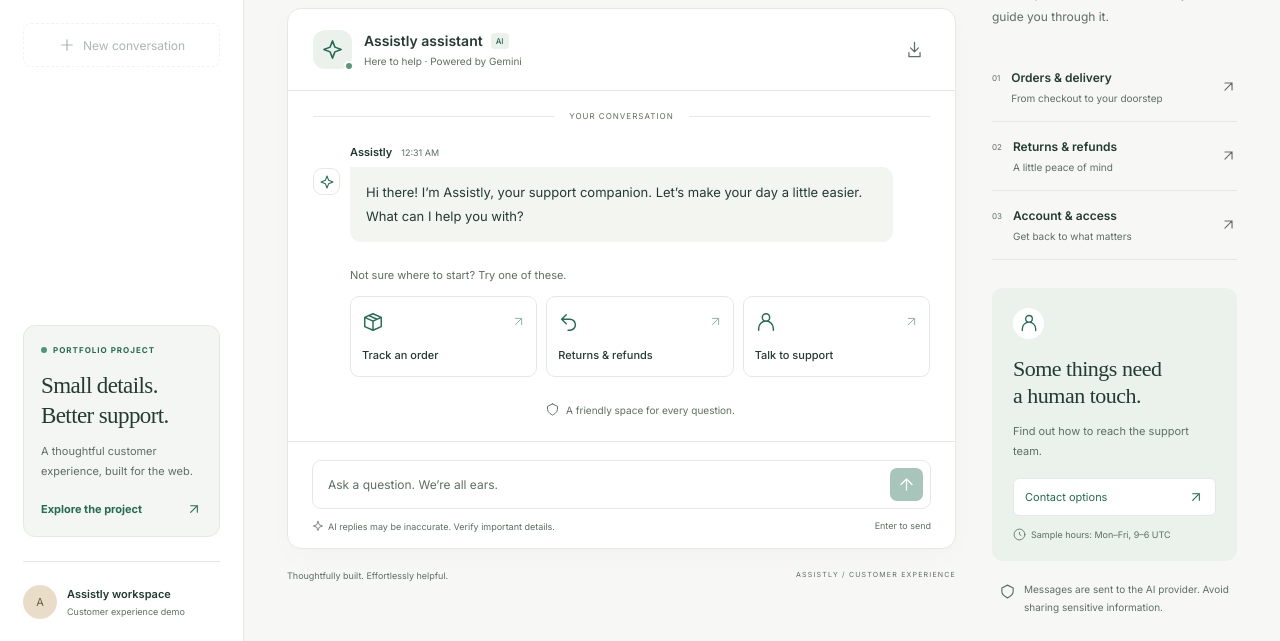
Scenario: shows a recoverable error if live AI fails, then resumes sample mode
(page scrolled)
Type "How does shipping work?" into the field named "Your message" at (605, 485), box [320,468,890,502]
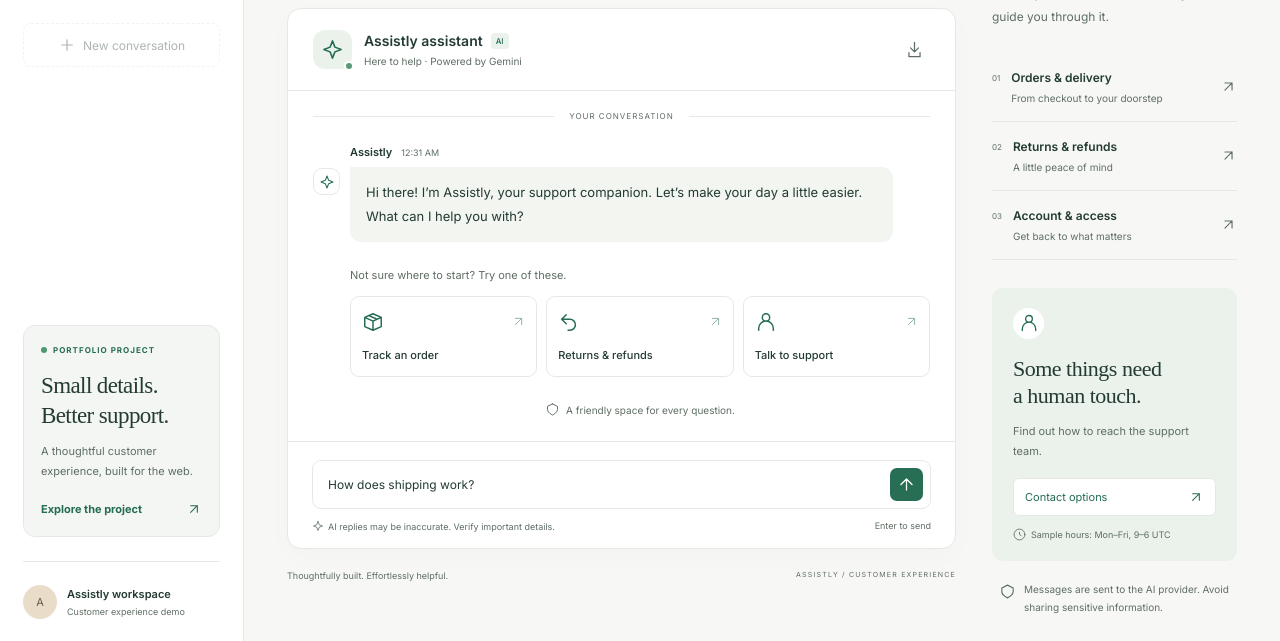
Click the button named "Send message" at (906, 485), box [890,468,923,502]
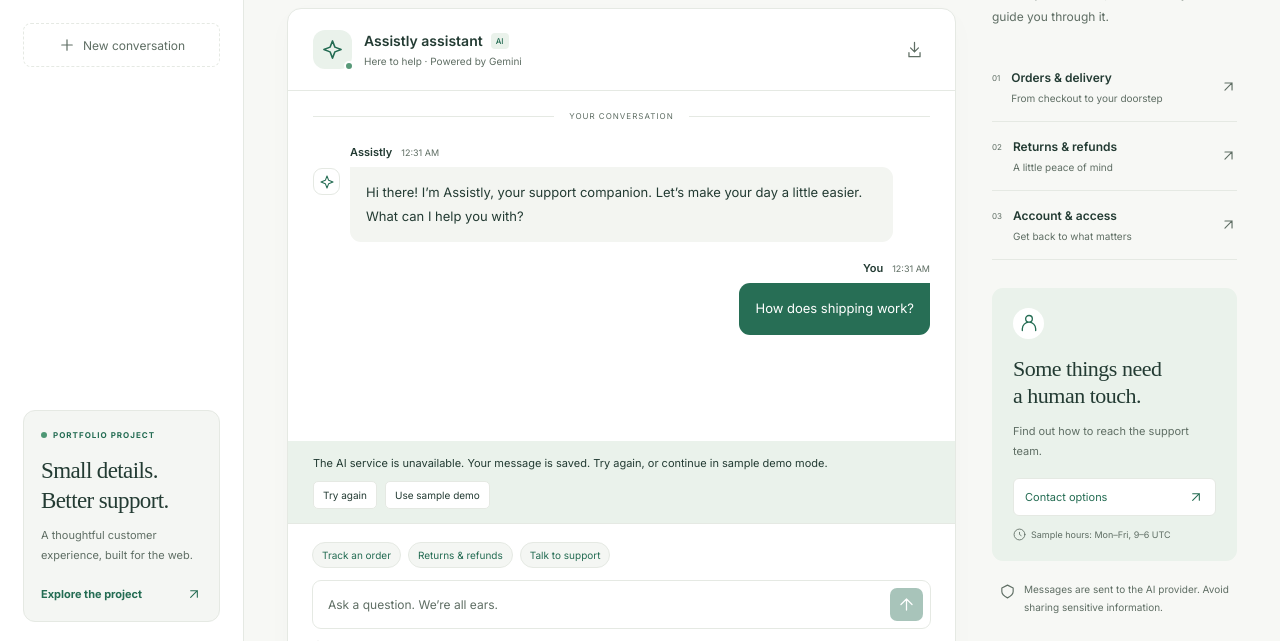
Result: the message is shown at [288,442,955,523]
Click the button "Use sample demo" at (437, 495), box [385,481,490,509]
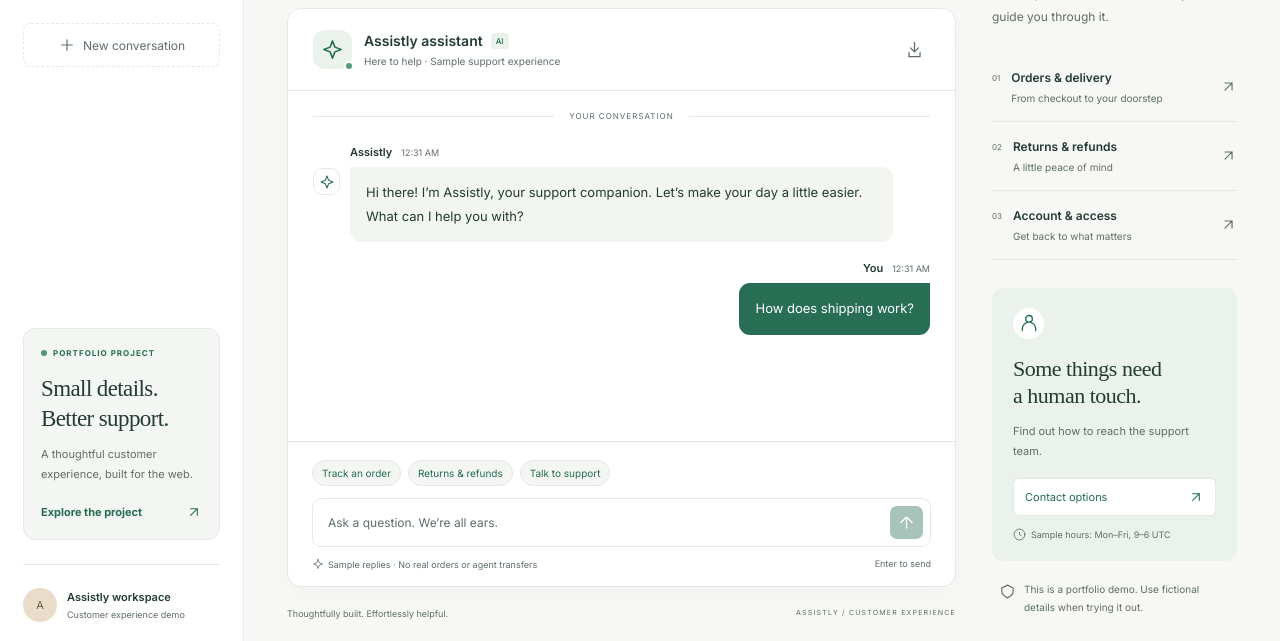
Type "How does shipping work?" into the field named "Your message" at (605, 523), box [320,506,890,540]
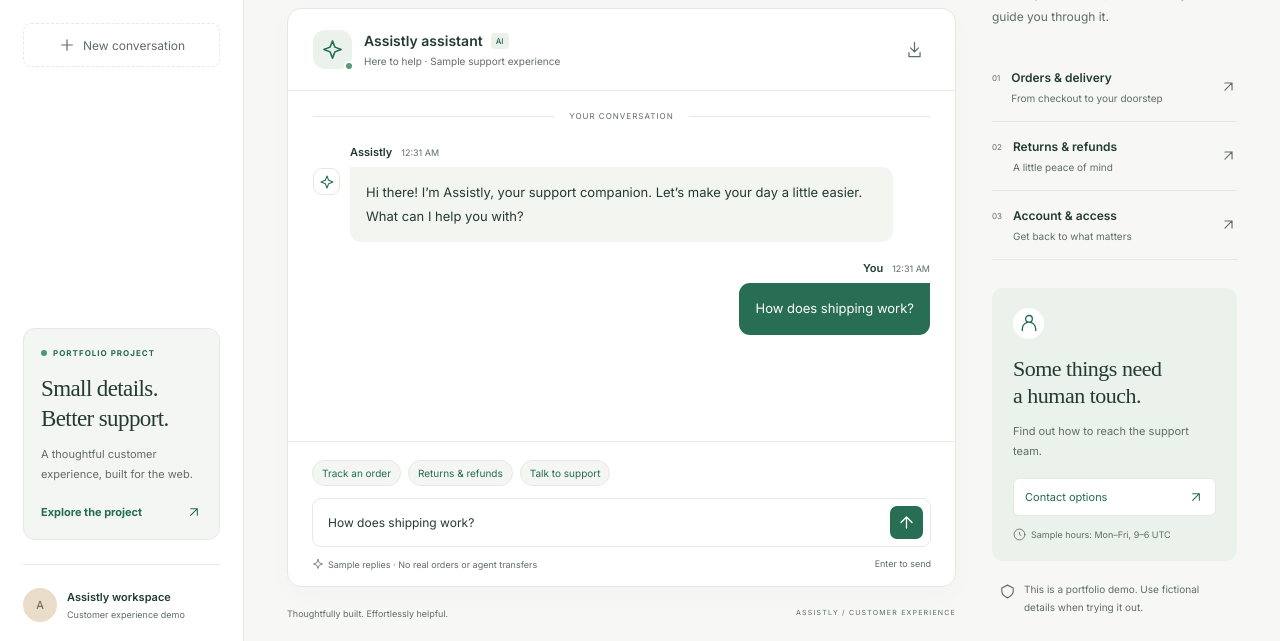
Click the button named "Send message" at (906, 523), box [890,506,923,540]
(page scrolled)
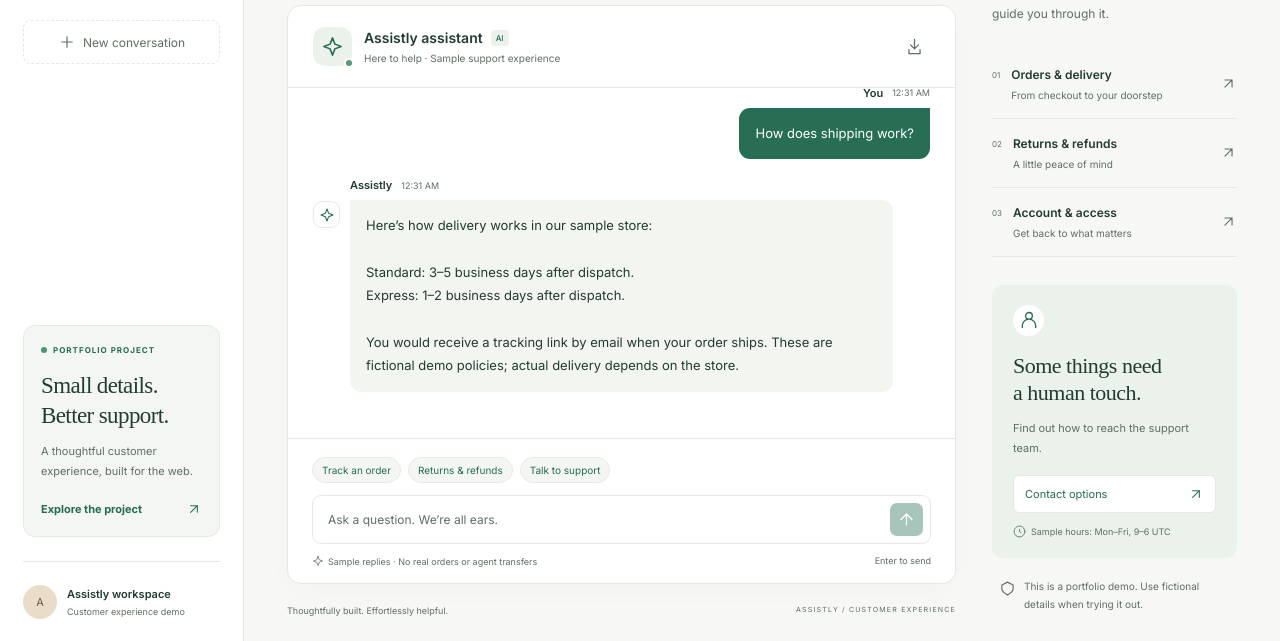
Result: the text "Here’s how delivery works" is shown at [366,217,836,373]
